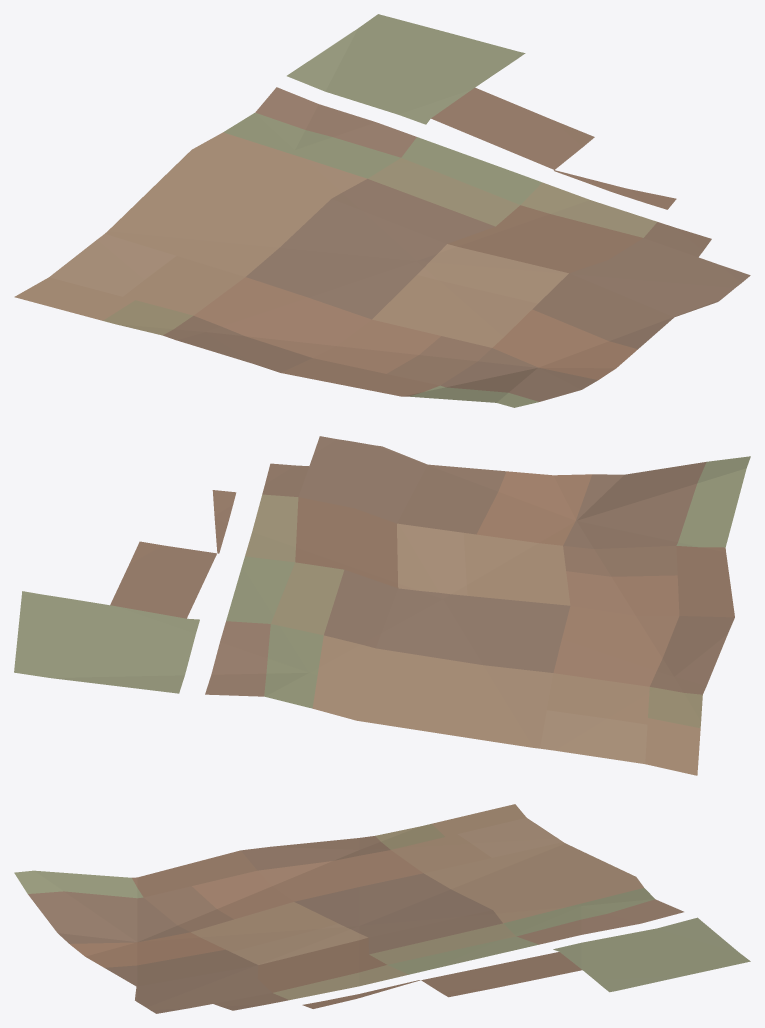
Rendered from farm_-37_-27_soil.glb.
3 views of the same model, one above another, from view 1: azimuth 30°, elevation 25°; view 2: azimuth 150°, elevation 25°; view 3: azimuth 270°, elevation 25° (orthographic). The views are drawn at different scales.
Parts seen in each view (by area): view 1: geometry_0; view 2: geometry_0; view 3: geometry_0.
Boxes of the visible parts, <box> form: geometry_0: <box>14,14,750,407</box>; geometry_0: <box>14,436,750,775</box>; geometry_0: <box>14,804,750,1013</box>.
Bounding box in the file's own units: 214 × 25.21 × 266.
